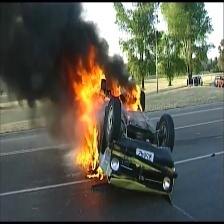fire: (68, 45, 108, 171), (108, 76, 143, 111)
